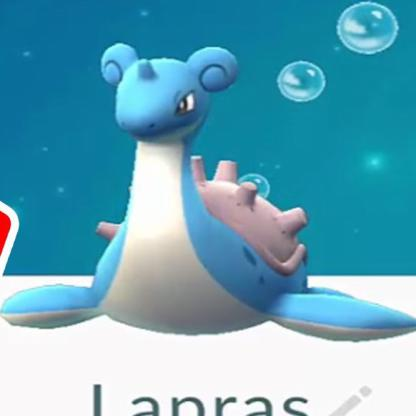Lapras: (40, 18, 416, 357)
